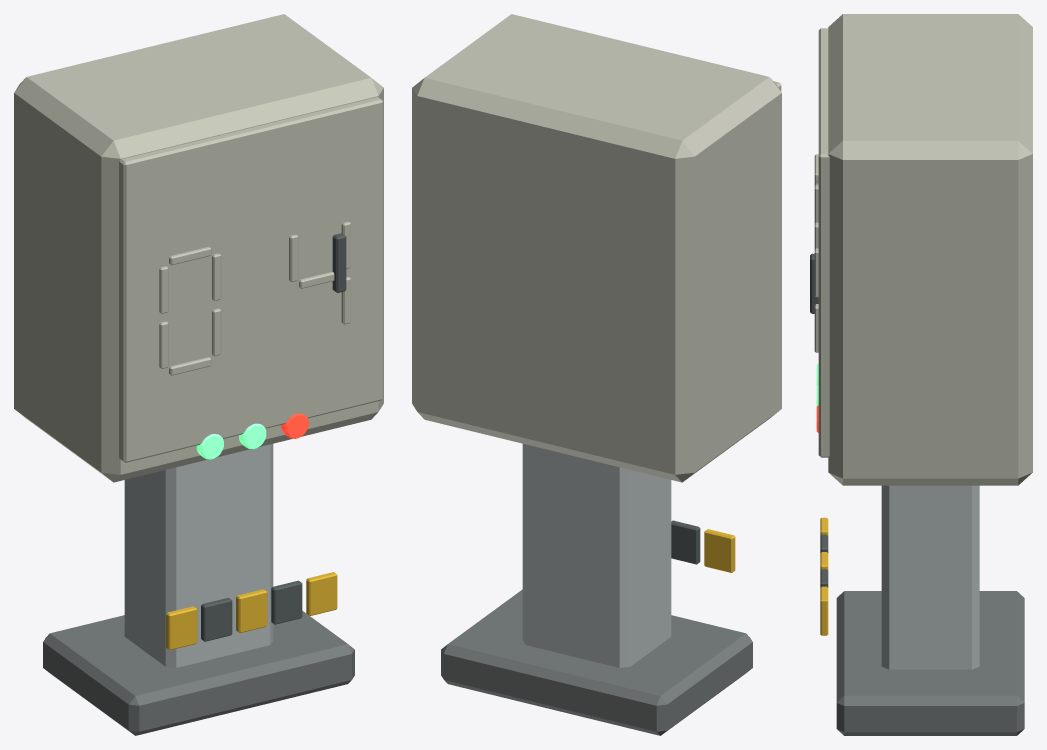
Rendered from runtime.glb.
3 views of the same model, side by side, from view 1: azimuth 30°, elevation 25°; view 2: azimuth 150°, elevation 25°; view 3: azimuth 270°, elevation 25° (orthographic).
Visible parts, largest first — view 1: reactor-control-box-v04_nocol; view 2: reactor-control-box-v04_nocol; view 3: reactor-control-box-v04_nocol.
Part boxes in pixels (<box>): reactor-control-box-v04_nocol: <box>14,14,383,735</box>; reactor-control-box-v04_nocol: <box>412,14,781,735</box>; reactor-control-box-v04_nocol: <box>810,14,1032,735</box>.
Bounding box in the file's own units: 1.48 × 3.01 × 1.
